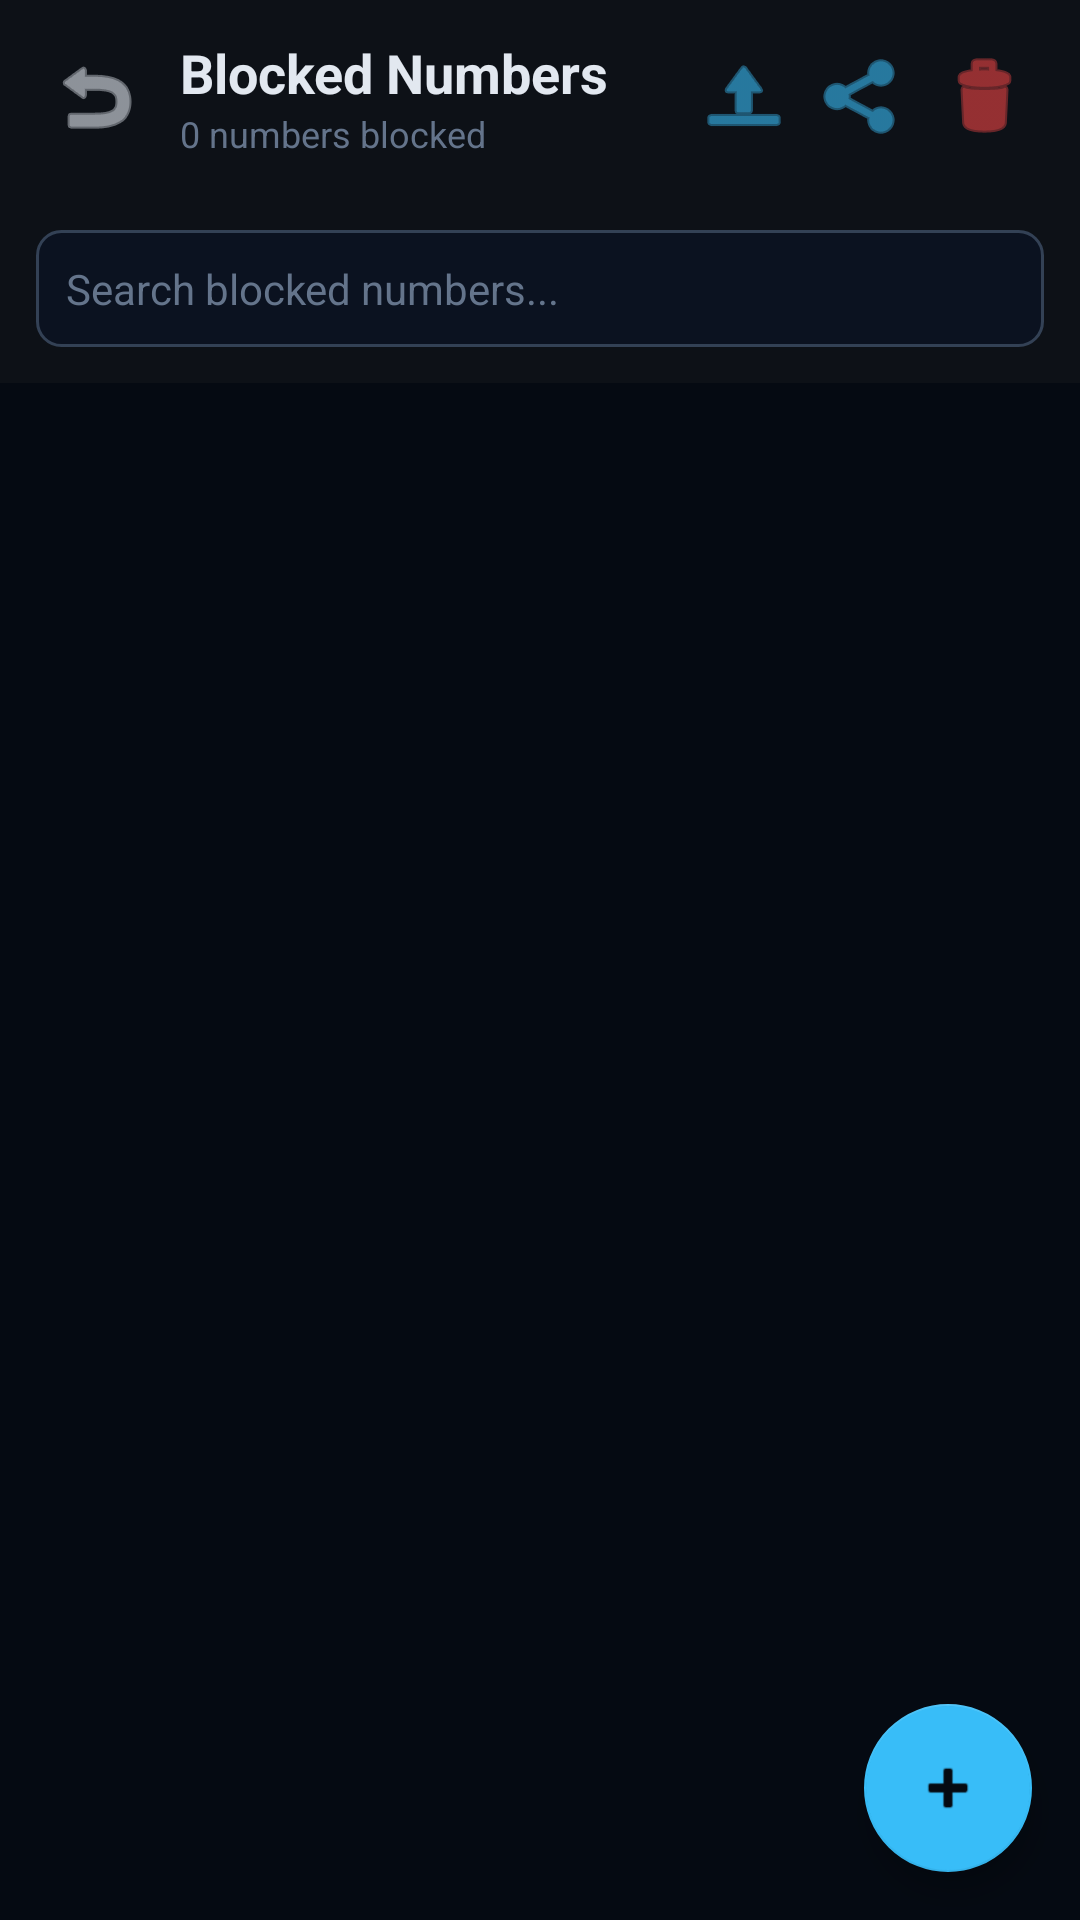

Icon click points for this 1080 × 1920 phone screenshot, format point (x, y):
Add number: point (948, 1788)
Back: point (97, 97)
Clear All: point (984, 95)
Export CSV: point (859, 96)
Import CSV: point (744, 95)
